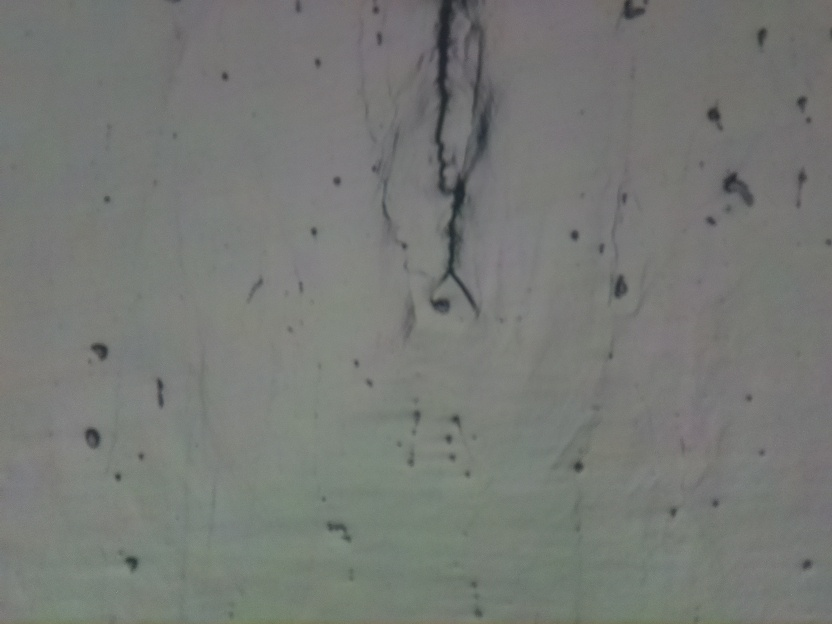crack: (434, 0, 479, 306)
